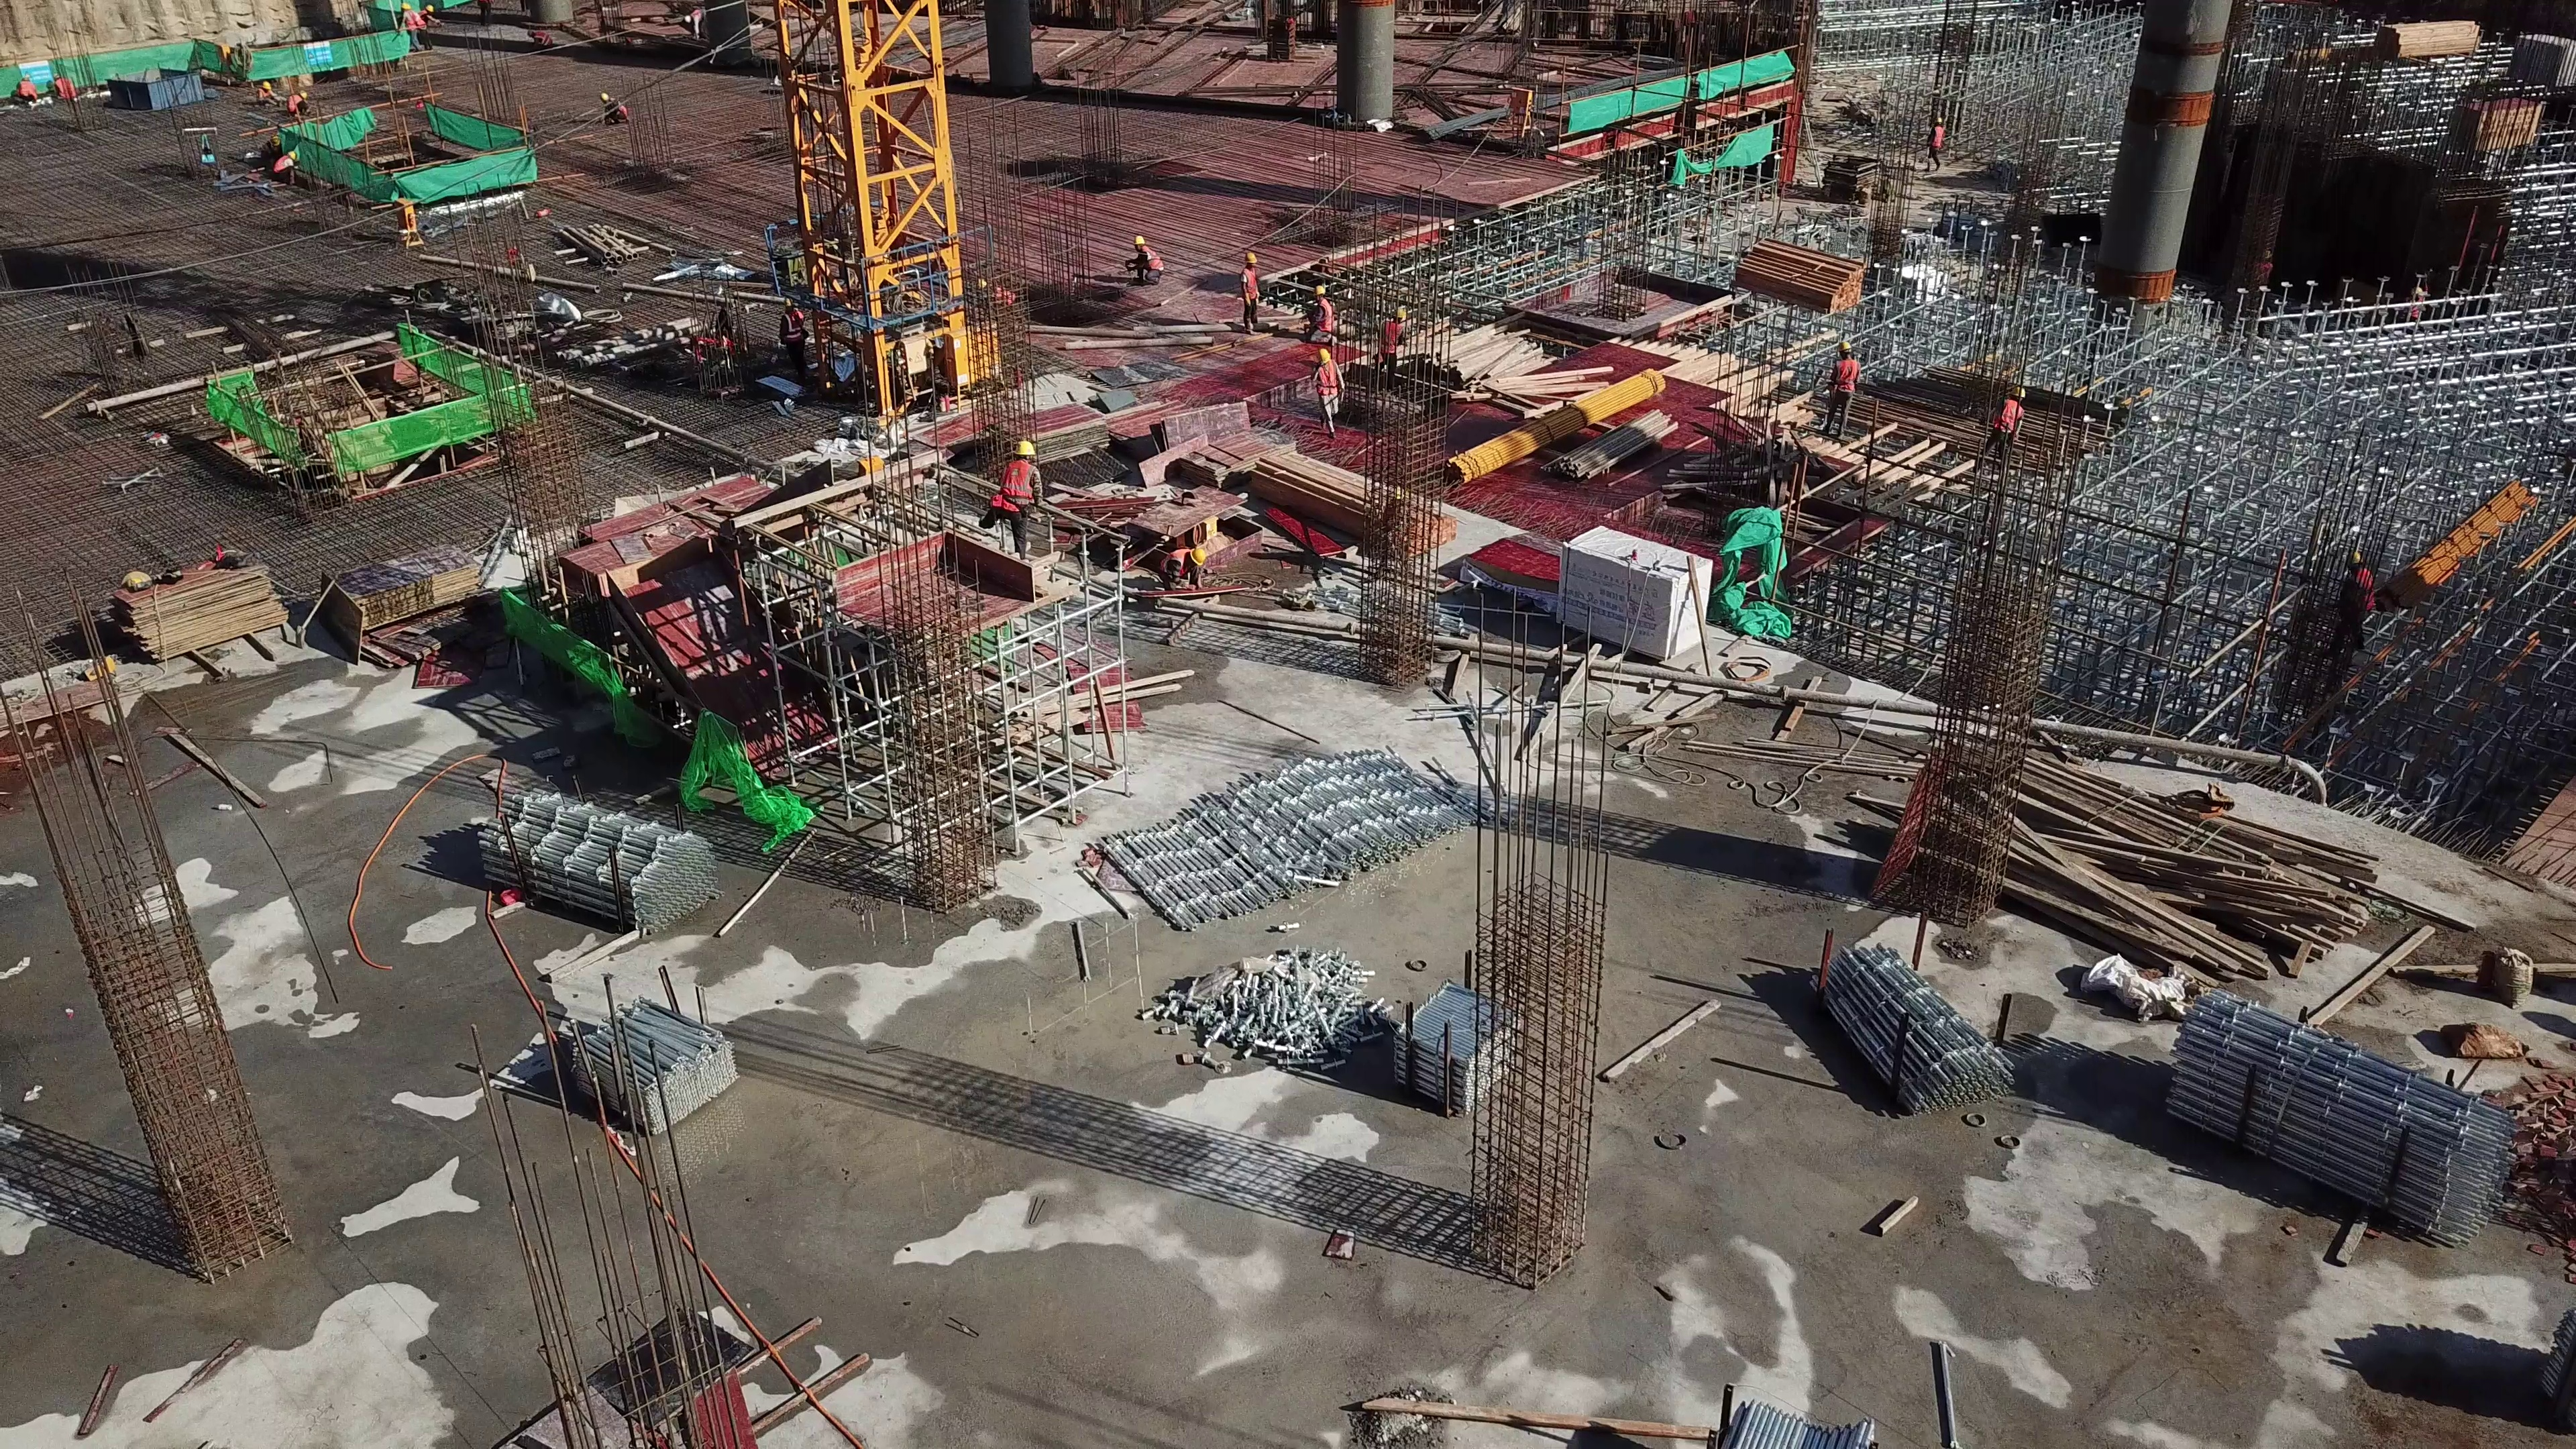board: (117, 555, 290, 670), (321, 547, 487, 648), (1181, 431, 1286, 485), (1152, 397, 1256, 445), (1044, 400, 1111, 462)
ebox: (946, 322, 1013, 396), (1503, 85, 1537, 144)
helmet: (1008, 439, 1038, 455), (1835, 337, 1854, 351), (1317, 346, 1333, 363), (2010, 385, 2028, 398), (1391, 306, 1406, 318), (780, 294, 796, 307), (286, 148, 299, 160), (1133, 234, 1147, 245), (1243, 253, 1258, 264), (598, 92, 610, 102), (425, 2, 435, 13), (1314, 284, 1326, 294), (400, 3, 414, 11), (262, 79, 272, 89), (299, 89, 309, 97), (1931, 117, 1942, 124)
person: (983, 434, 1043, 566), (772, 292, 814, 384), (1981, 386, 2027, 472), (1307, 347, 1346, 434), (1827, 337, 1856, 439), (1372, 305, 1409, 384), (1127, 232, 1173, 284), (1237, 250, 1265, 333), (390, 1, 431, 51), (1301, 279, 1339, 333), (1921, 117, 1950, 172), (5, 71, 42, 110), (266, 148, 303, 184), (596, 89, 631, 124), (252, 76, 285, 107), (287, 88, 323, 115), (48, 74, 79, 103), (423, 1, 439, 51), (525, 28, 559, 51)
scaffold: (2151, 981, 2492, 1242), (1106, 741, 1462, 935), (460, 788, 714, 941), (1818, 935, 1991, 1121)
vest: (987, 456, 1043, 519), (1993, 400, 2024, 433), (1316, 362, 1344, 398), (780, 311, 808, 341), (1378, 321, 1405, 352), (1240, 267, 1265, 301), (1832, 357, 1857, 391), (1137, 246, 1168, 270), (1312, 299, 1335, 331), (273, 154, 290, 173), (1927, 126, 1943, 147)
wood: (2021, 751, 2394, 985), (1240, 437, 1440, 553), (1442, 315, 1589, 406), (1727, 236, 1868, 315), (2371, 14, 2483, 66)
